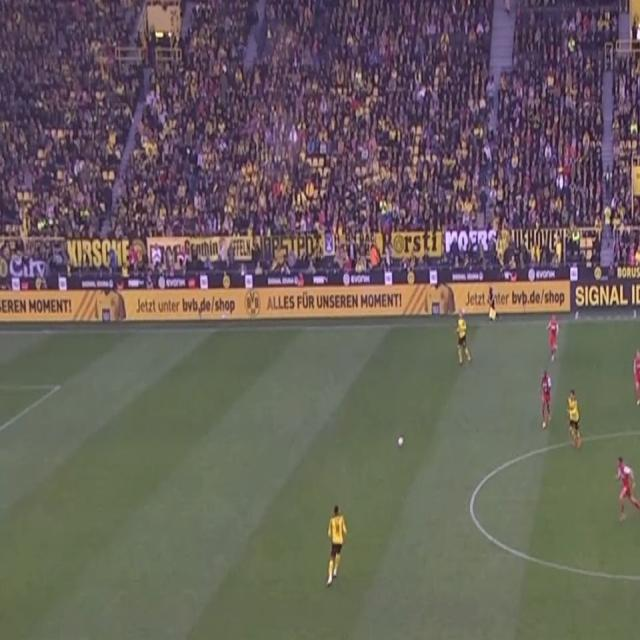ball: (396, 434, 405, 448)
